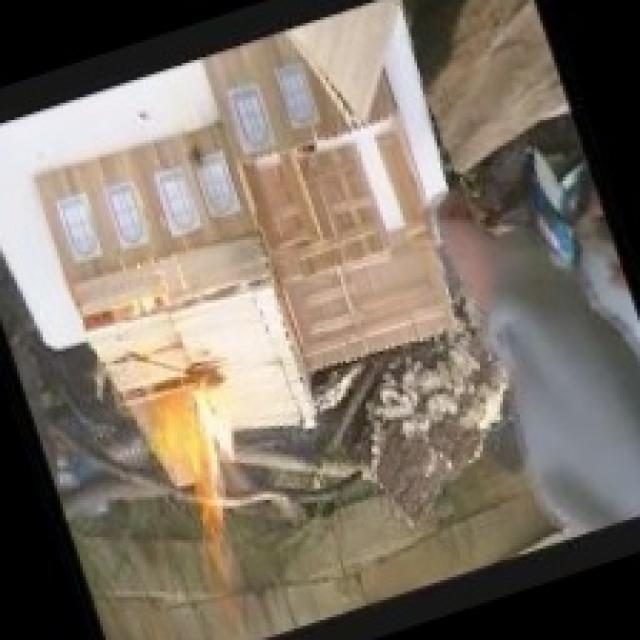fire: (96, 357, 313, 640)
